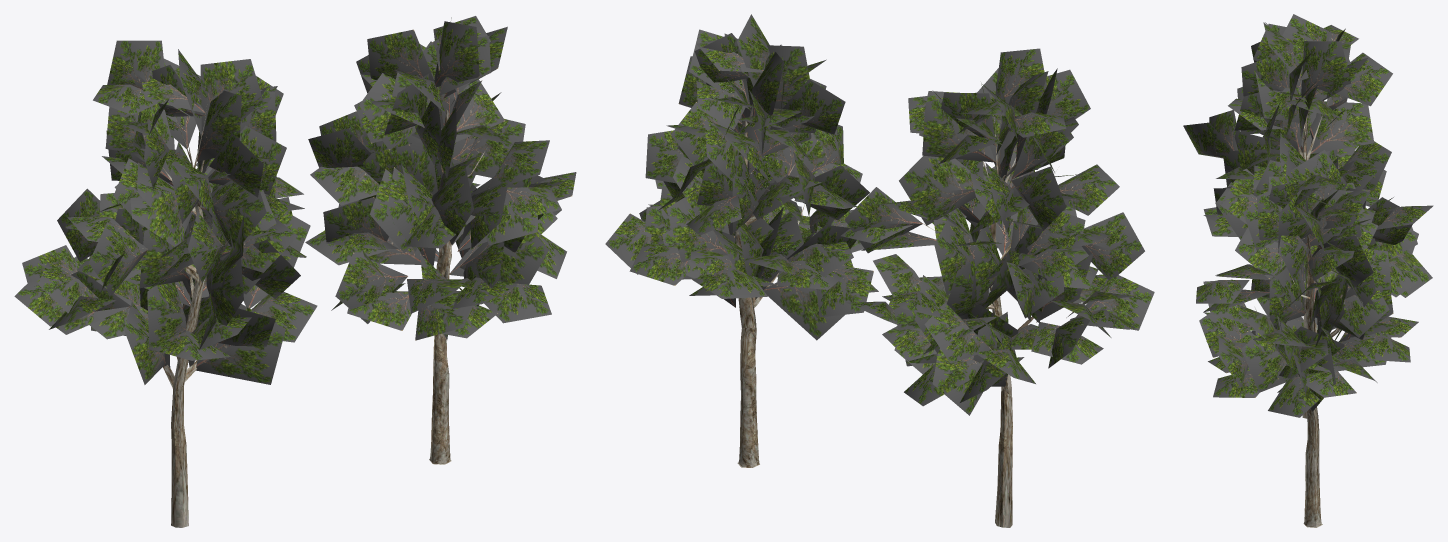
Rendered from tree_low_poly.glb.
The picture shows the model from 3 angles, left to right: view 1: azimuth 30°, elevation 25°; view 2: azimuth 150°, elevation 25°; view 3: azimuth 270°, elevation 25°; orthographic projection. The views are drawn at different scales.
Parts seen in each view (by area): view 1: tree_low_poly; view 2: tree_low_poly; view 3: tree_low_poly.
Part boxes in pixels (x1,y1,x2,y2): tree_low_poly: (14,16,576,527); tree_low_poly: (605,14,1154,527); tree_low_poly: (1183,14,1433,527).
Bounding box in the file's own units: 10.73 × 8.99 × 5.22.
Materials: 1 (1 with a texture image).
